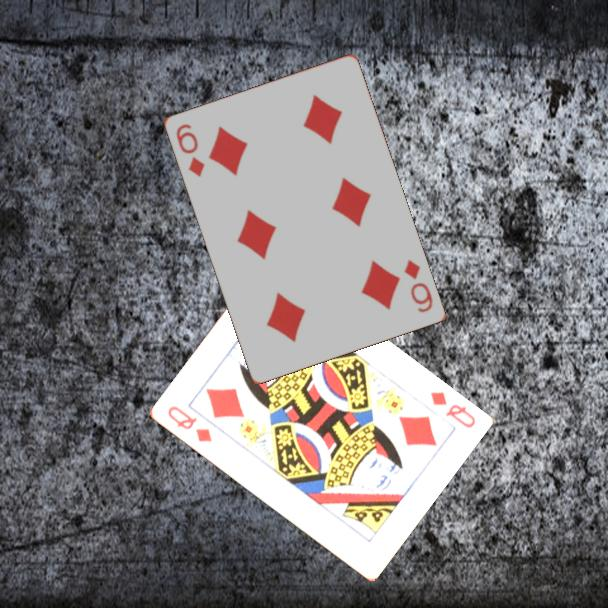d06: (172, 120, 207, 180), (400, 255, 435, 315)
d12: (426, 388, 478, 431), (164, 402, 215, 445)
